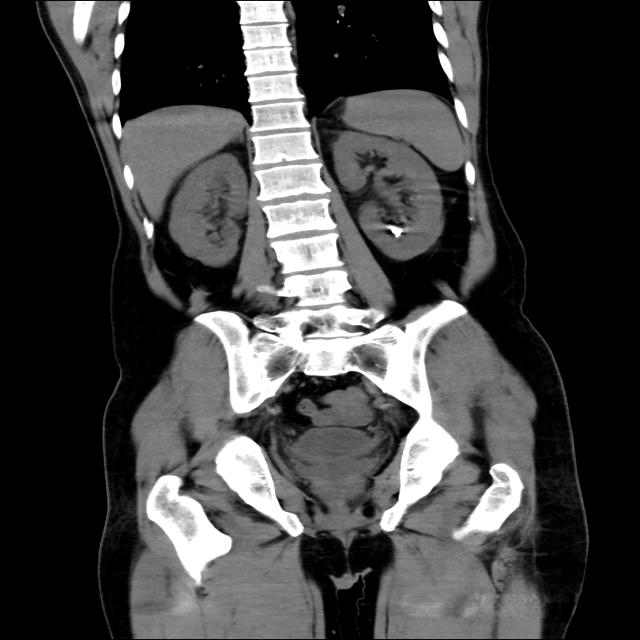kidneystone: (387, 225, 404, 237)
